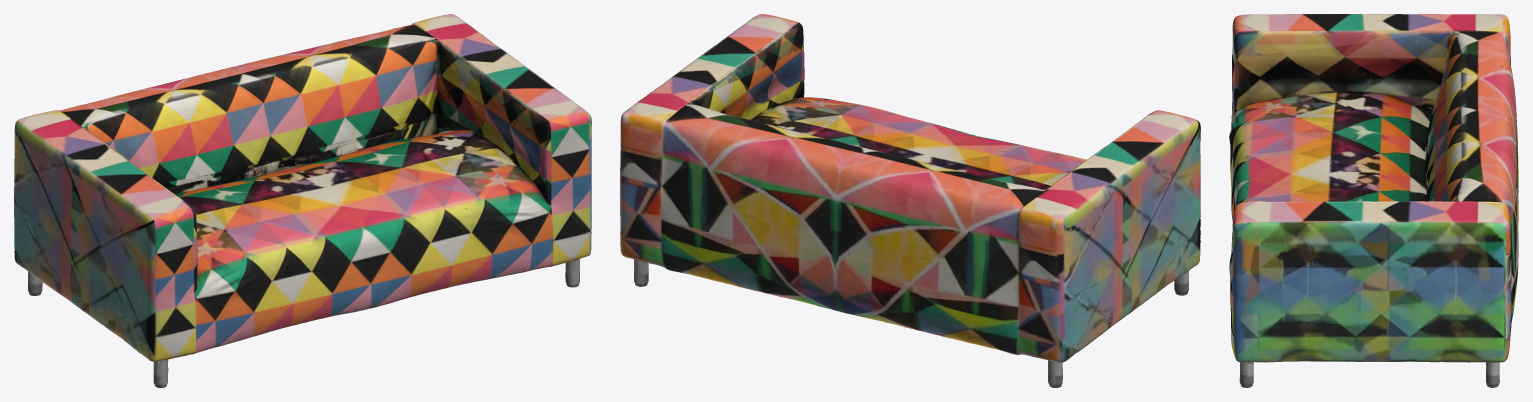
The picture shows the model from 3 angles, left to right: view 1: azimuth 30°, elevation 25°; view 2: azimuth 150°, elevation 25°; view 3: azimuth 270°, elevation 25°; orthographic projection. The views are drawn at different scales.
Bounding box in the file's own units: 1.9 × 0.7254 × 1.09.
Materials: 1 (1 with a texture image).
